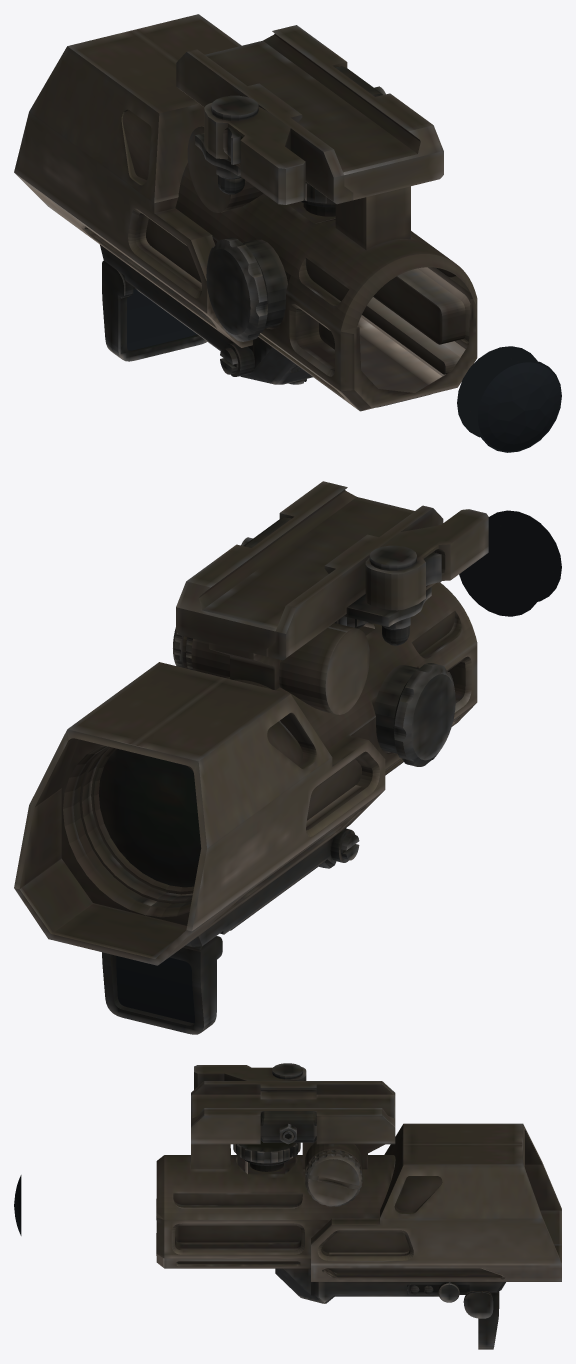
3 views of the same model, one above another, from view 1: azimuth 30°, elevation 25°; view 2: azimuth 150°, elevation 25°; view 3: azimuth 270°, elevation 25° (orthographic). The views are drawn at different scales.
Visible parts, largest first — view 1: TW_5dfe6104585a0c3e995c7b82_PZ_Import; view 2: TW_5dfe6104585a0c3e995c7b82_PZ_Import; view 3: TW_5dfe6104585a0c3e995c7b82_PZ_Import.
Part boxes in pixels (left/top/right/bottom): TW_5dfe6104585a0c3e995c7b82_PZ_Import: left=14, top=14, right=561, bottom=452; TW_5dfe6104585a0c3e995c7b82_PZ_Import: left=14, top=481, right=561, bottom=1034; TW_5dfe6104585a0c3e995c7b82_PZ_Import: left=14, top=1063, right=561, bottom=1349.
Bounding box in the file's own units: 0.0311 × 0.1168 × 0.0571.
Materials: 1 (1 with a texture image).
